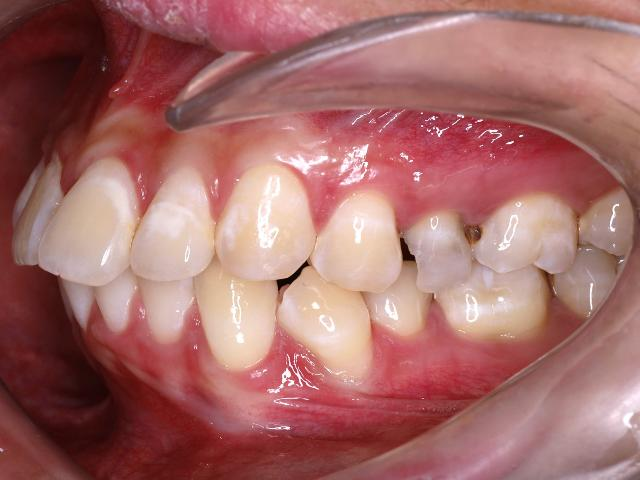canine class II 1/4: (201, 164, 377, 384)
molar class III 1/4: (432, 187, 580, 353)
